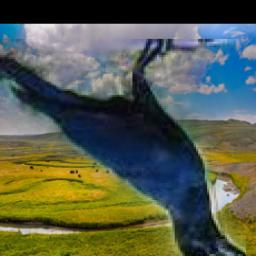Crow: (0, 39, 246, 256)
